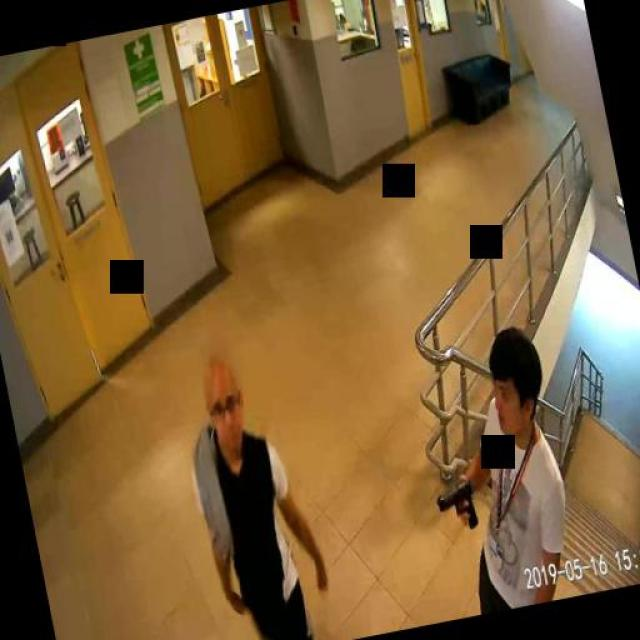gun: (432, 477, 478, 532)
